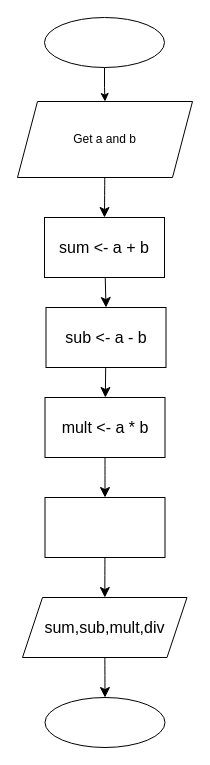
Some shapes in this 210 by 765 pixel diagram are drawn without their labels. Each missing label, with the centre of its shape:
"div <- a / b" belongs at pixel 104 527.
"START" belongs at pixel 104 42.
"STOP" belongs at pixel 104 722.
